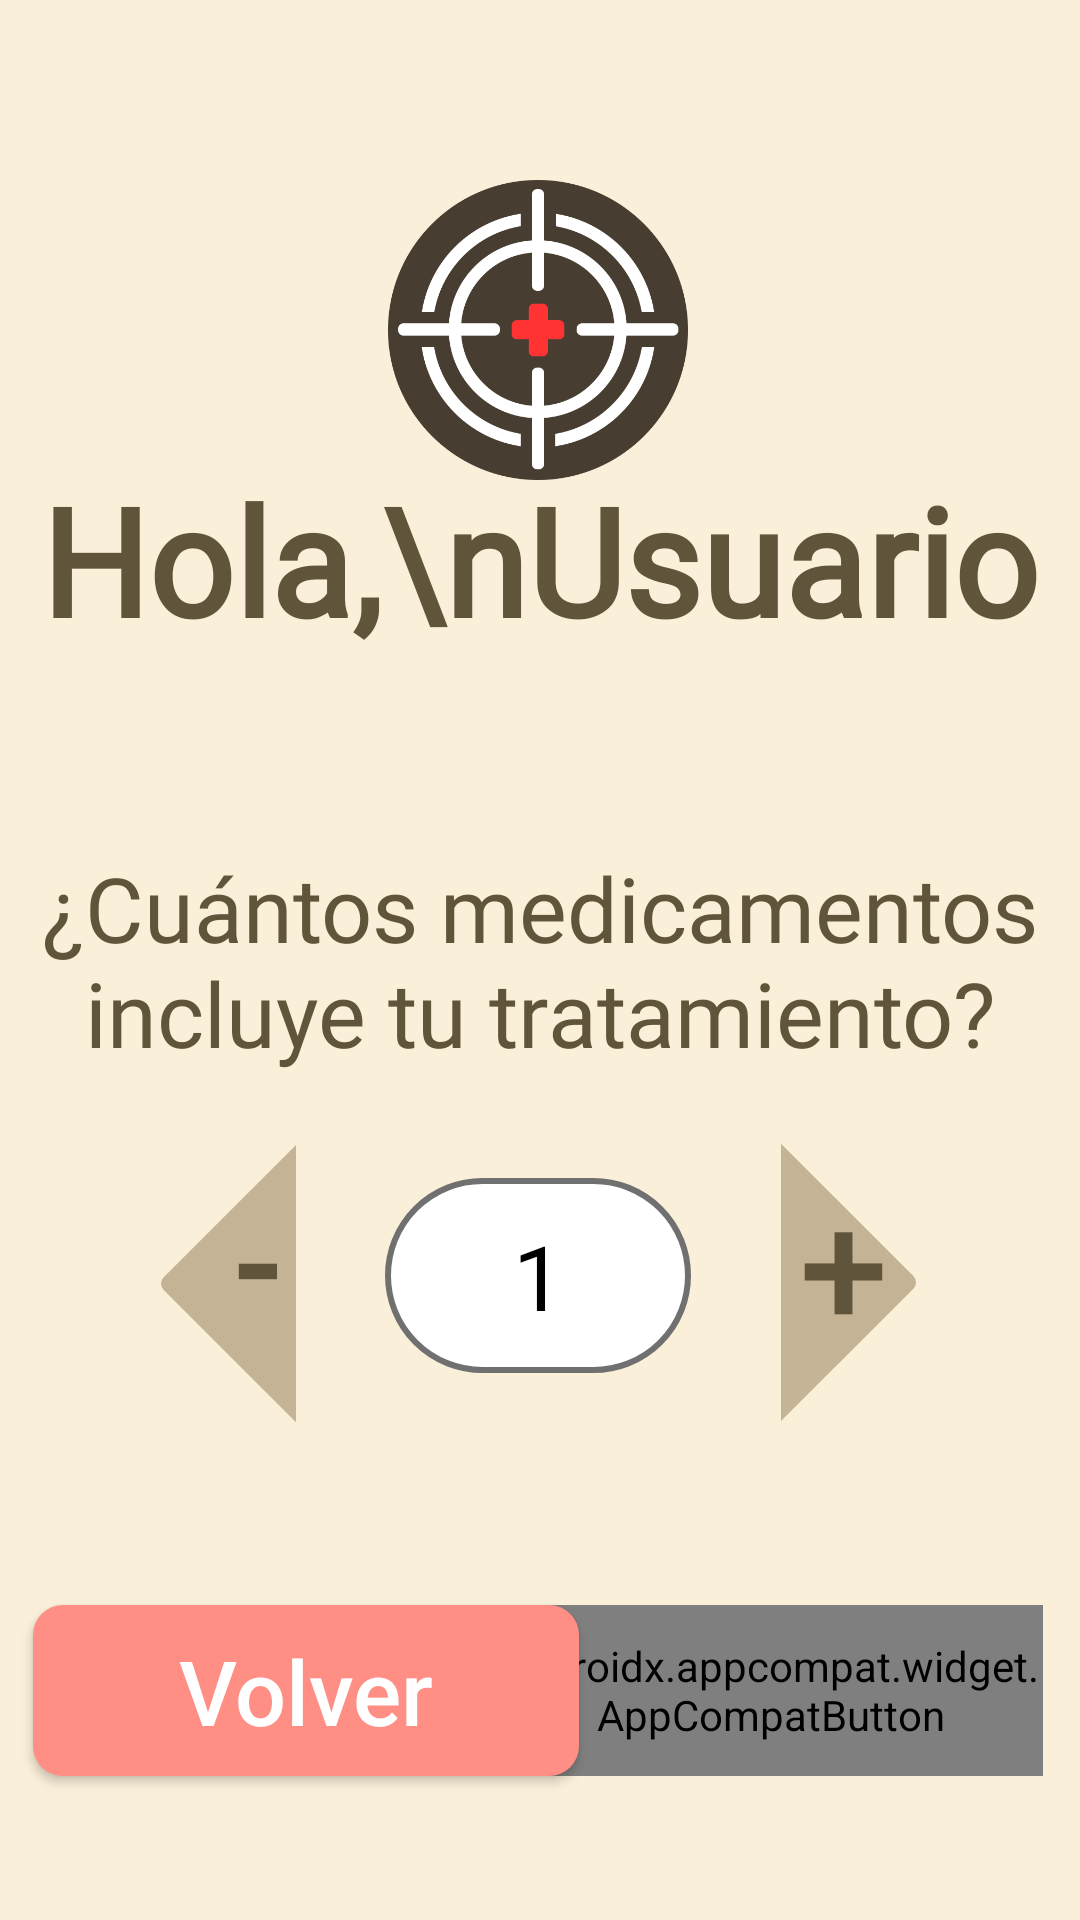

Locate icon controls on the screen. Image size 1080w x 1920h, boxes as bbox(x1, y1, x2, y2).
Icono Aplicación Mira Roja: bbox(388, 180, 688, 480)
